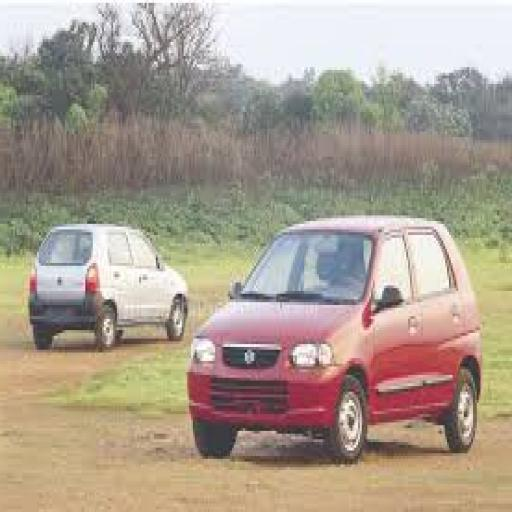License: (214, 368, 272, 394)
